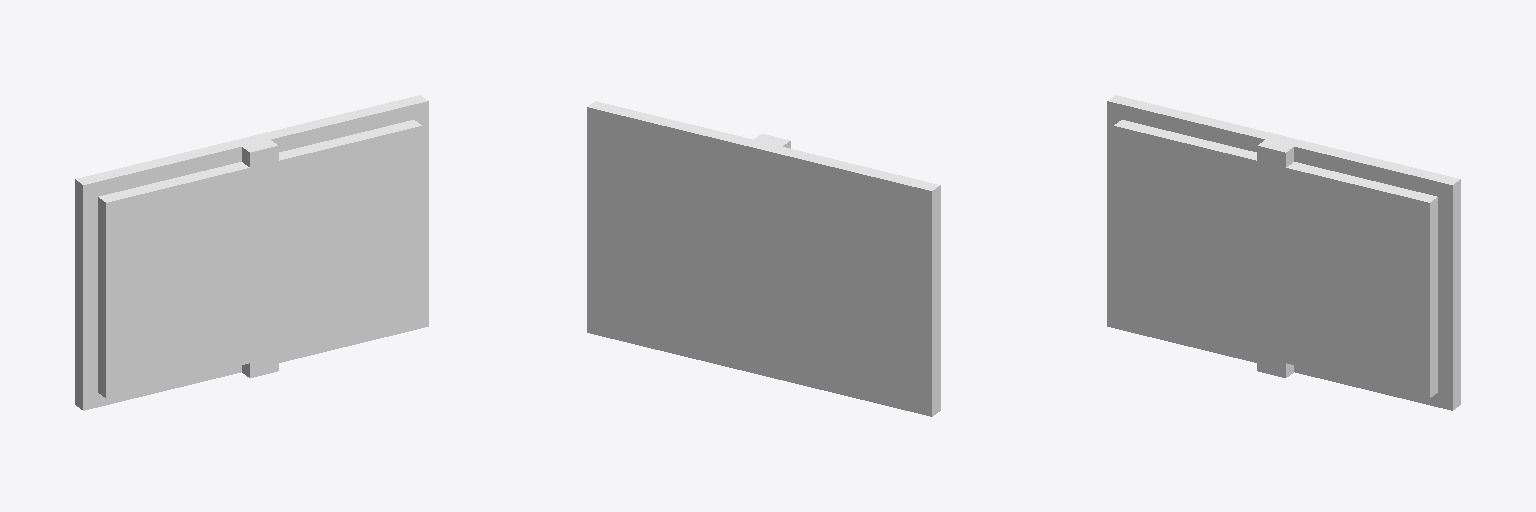
File: OpenBook1.obj
3 views of the same model, side by side, from view 1: azimuth 30°, elevation 25°; view 2: azimuth 150°, elevation 25°; view 3: azimuth 330°, elevation 25° (orthographic).
Parts seen in each view (by area): view 1: object 1; view 2: object 1; view 3: object 1.
Boxes of the visible parts, x1=… form: object 1: x1=75, y1=95, x2=428, y2=410; object 1: x1=587, y1=101, x2=940, y2=416; object 1: x1=1107, y1=95, x2=1460, y2=410.
Size of the model in its own units: 2.4 by 1.5 by 0.2.